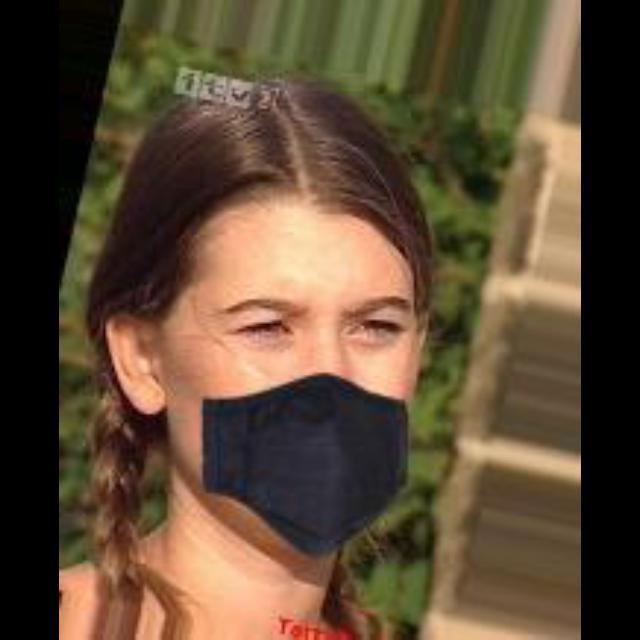suspicion: (108, 100, 436, 536)
